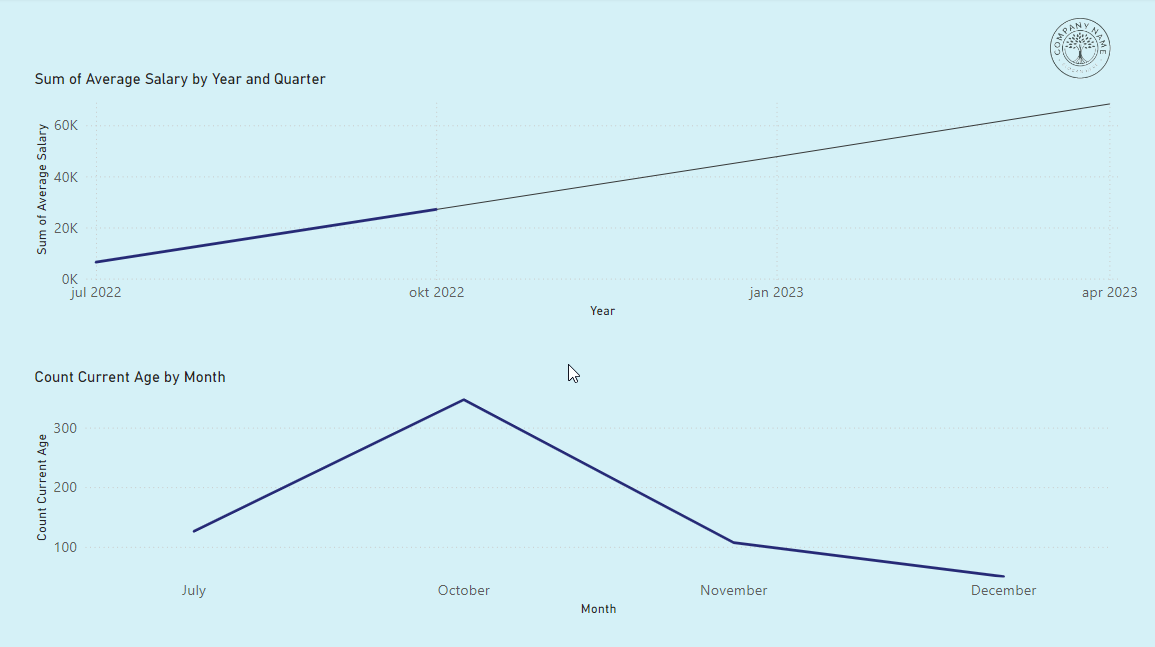

The dashboard page shown, as its layout file describes it:
{"tool":"powerbi","page":{"name":"Trend & Forecasts","canvas":[1280,720],"ordinal":1},"visuals":[{"type":"lineChart","fields":{"Category":["Data Survey.Date Taken (America/New_York).Variation.Date Hierarchy.Year","Data Survey.Date Taken (America/New_York).Variation.Date Hierarchy.Quarter","Data Survey.Date Taken (America/New_York).Variation.Date Hierarchy.Month","Data Survey.Date Taken (America/New_York).Variation.Date Hierarchy.Day"],"Y":["Data Survey.Sum of Average Salary"]},"box":[34.3,80.8,1230.2,278.8],"z":0},{"type":"lineChart","fields":{"Y":["Data Survey.Count Current Age"],"Category":["Data Survey.Date Taken (America/New_York).Variation.Date Hierarchy.Year","Data Survey.Date Taken (America/New_York).Variation.Date Hierarchy.Quarter","Data Survey.Date Taken (America/New_York).Variation.Date Hierarchy.Month","Data Survey.Date Taken (America/New_York).Variation.Date Hierarchy.Day"]},"box":[34.3,410.4,1201.5,278.8],"z":1000},{"type":"image","box":[1139.5,0,112.8,112.8],"z":1001}]}

Visuals, with their boxes in screenshot pixels (x1, y1, x2, y2), scaled from the page's 1280x720 canvas onto the 1155x647 screenshot:
lineChart - Data Survey.Date Taken (America/New_York).Variation.Date Hierarchy.Year x Data Survey.Date Taken (America/New_York).Variation.Date Hierarchy.Quarter: (31,73,1141,323)
lineChart - Data Survey.Count Current Age x Data Survey.Date Taken (America/New_York).Variation.Date Hierarchy.Year: (31,369,1115,619)
image: (1028,0,1130,101)
